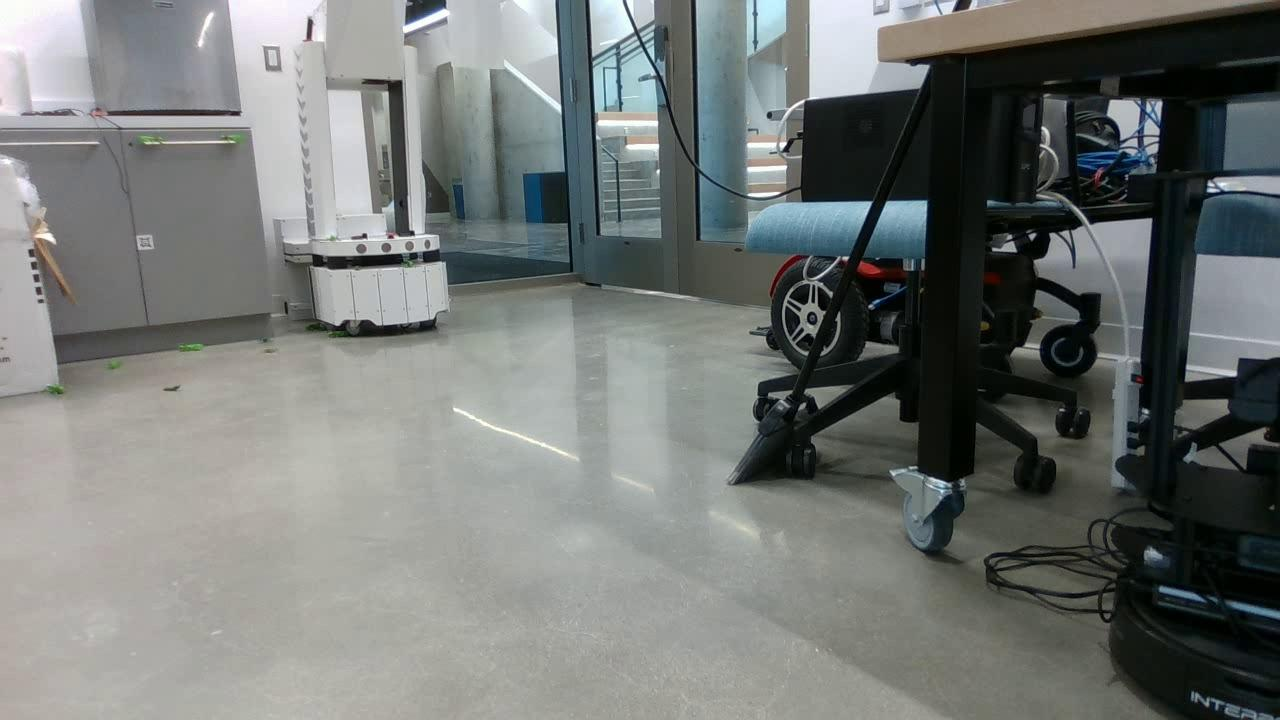grasshopper: (176, 342, 202, 352), (218, 133, 243, 143), (43, 385, 65, 396), (142, 134, 165, 144), (323, 330, 341, 340), (104, 361, 122, 370), (403, 260, 413, 270), (327, 233, 336, 241)
